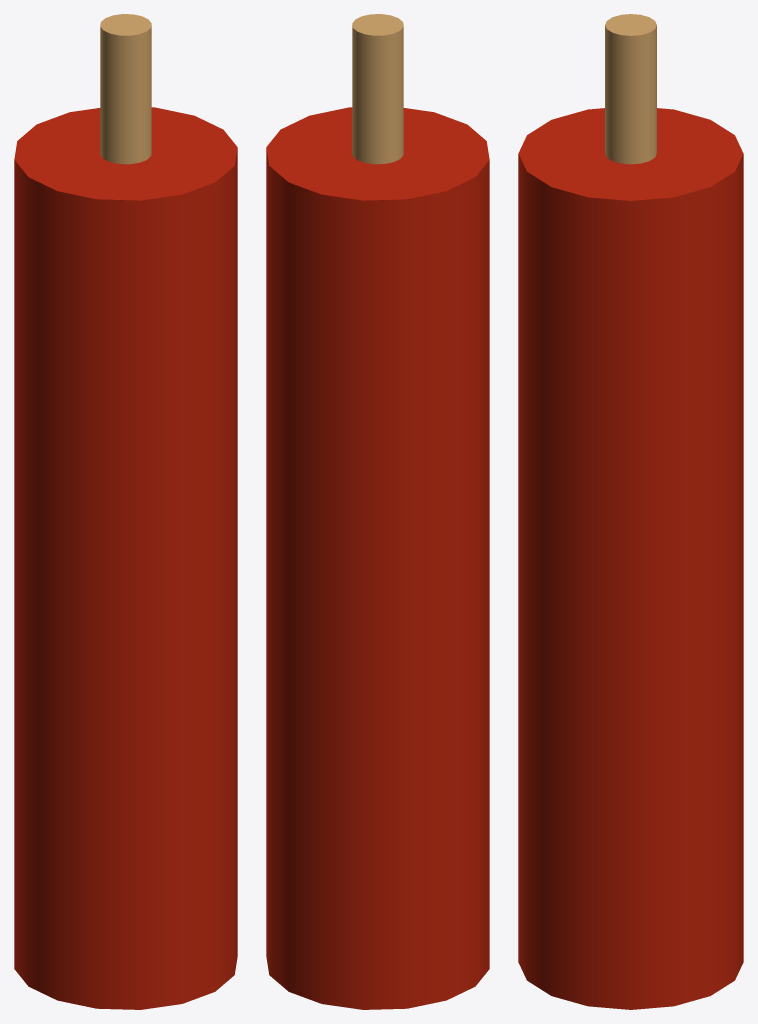
The model's file is Dynamite.fbx.
3 views of the same model, side by side, from view 1: azimuth 30°, elevation 25°; view 2: azimuth 150°, elevation 25°; view 3: azimuth 270°, elevation 25° (orthographic).
Parts seen in each view (by area): view 1: Cylinder.030; view 2: Cylinder.030; view 3: Cylinder.030.
Boxes of the visible parts, x1=… form: Cylinder.030: x1=14, y1=14, x2=237, y2=1009; Cylinder.030: x1=266, y1=14, x2=489, y2=1009; Cylinder.030: x1=518, y1=14, x2=743, y2=1009.
Bounding box in the file's own units: 0.0841 × 0.0841 × 0.3867.
